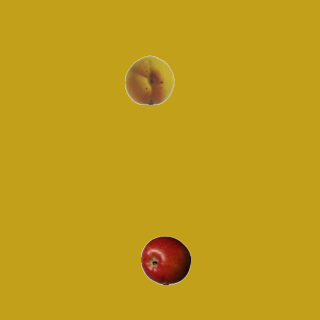Apple Braeburn: (140, 235, 190, 285)
Peach 2: (124, 54, 174, 104)
